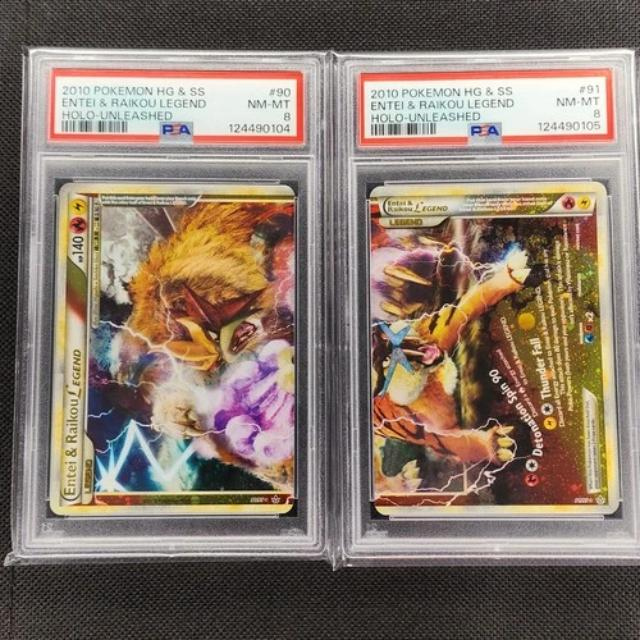Card: (366, 179, 622, 519), (48, 177, 298, 518)
Name: (62, 343, 85, 501), (384, 195, 453, 216)
